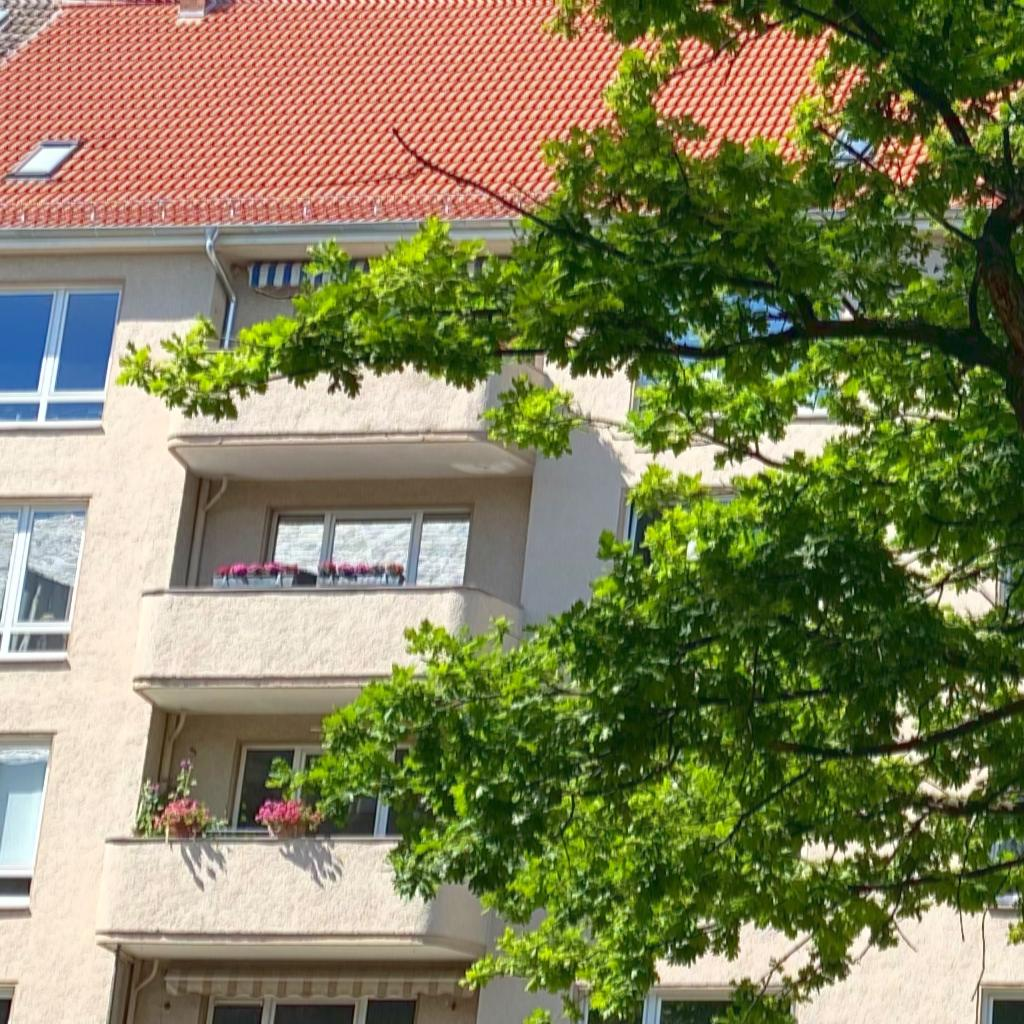tree: (113, 1, 1023, 1024)
